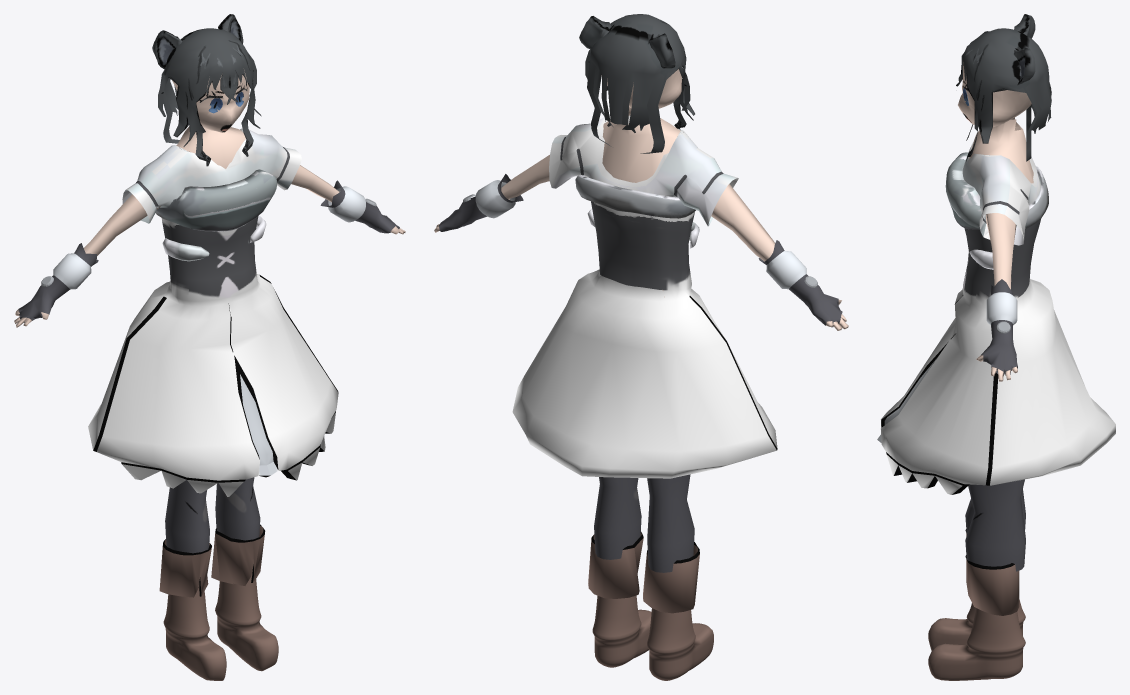
Rendered from fran.fbx.
The picture shows the model from 3 angles, left to right: view 1: azimuth 30°, elevation 25°; view 2: azimuth 150°, elevation 25°; view 3: azimuth 270°, elevation 25°; orthographic projection. The views are drawn at different scales.
Visible parts, largest first — view 1: mesh; view 2: mesh; view 3: mesh.
Part boxes in pixels (x1,y1,x2,y2): mesh: (14, 14, 405, 680); mesh: (434, 14, 848, 680); mesh: (877, 14, 1115, 680).
Size of the model in its own units: 80.75 by 123 by 41.98.
Materials: 10 (9 with a texture image).
